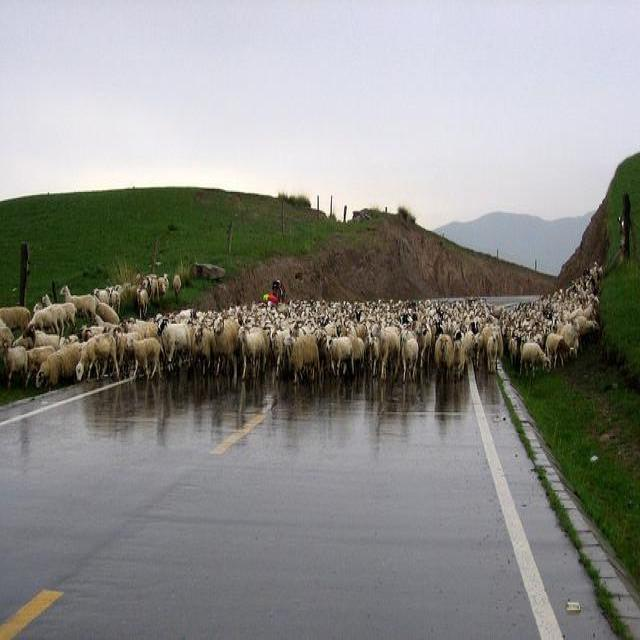Sheep: (0, 190, 623, 411), (77, 333, 120, 382), (283, 334, 320, 388), (368, 324, 401, 379)
